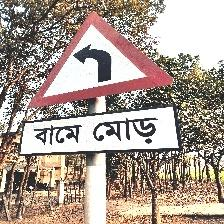Left-Turn: (22, 10, 178, 156)
